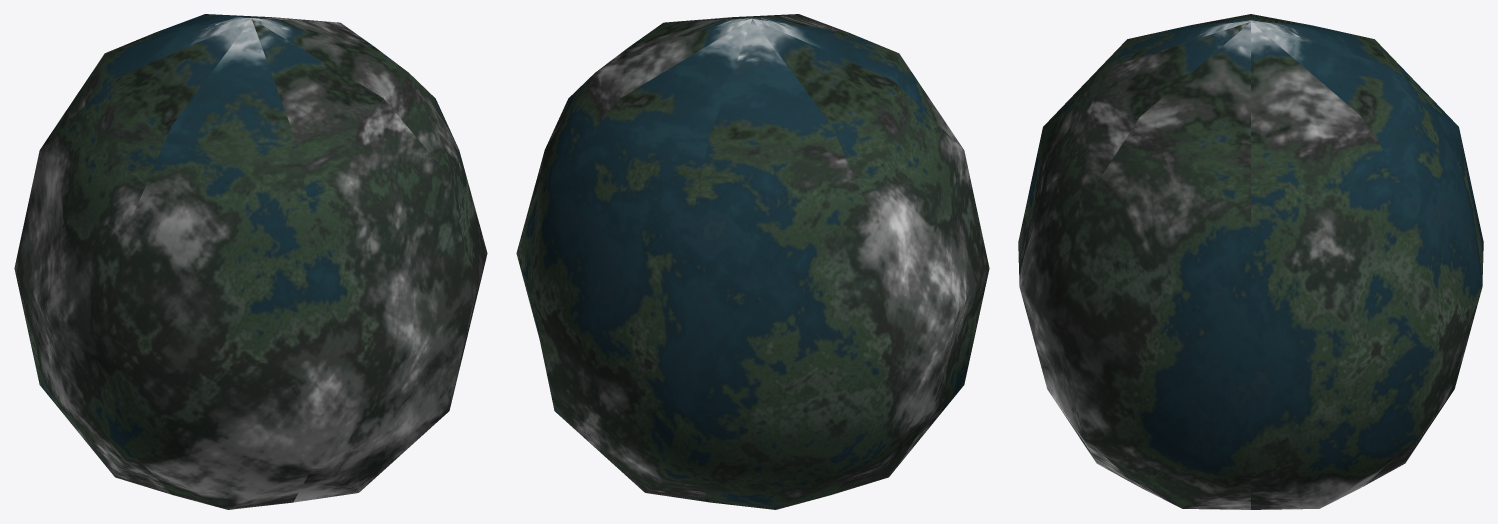
File: Planet5.fbx
The picture shows the model from 3 angles, left to right: view 1: azimuth 30°, elevation 25°; view 2: azimuth 150°, elevation 25°; view 3: azimuth 270°, elevation 25°; orthographic projection.
Parts seen in each view (by area): view 1: pasted__pasted__pSphere2; view 2: pasted__pasted__pSphere2; view 3: pasted__pasted__pSphere2.
Boxes of the visible parts, <box> form: pasted__pasted__pSphere2: <box>14,14,487,509</box>; pasted__pasted__pSphere2: <box>516,14,989,509</box>; pasted__pasted__pSphere2: <box>1018,14,1483,509</box>.
Size of the model in its own units: 1.56 by 1.76 by 1.53.
Materials: 1 (1 with a texture image).
